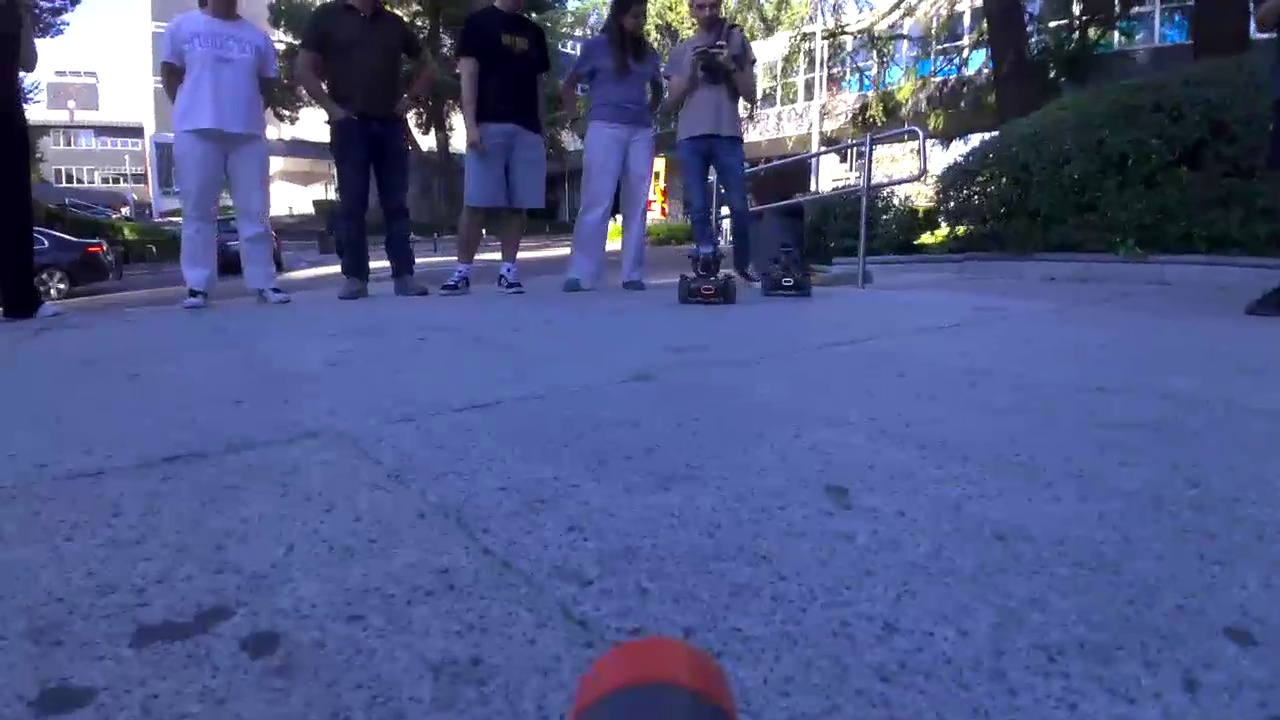robot: (679, 241, 740, 313), (762, 238, 815, 300)
